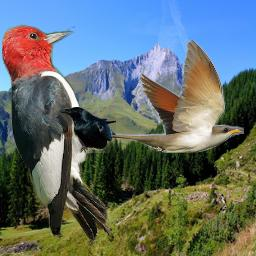Crow: (59, 107, 116, 153)
Cuckoo: (82, 40, 244, 153)
Woodpecker: (2, 23, 114, 243)
